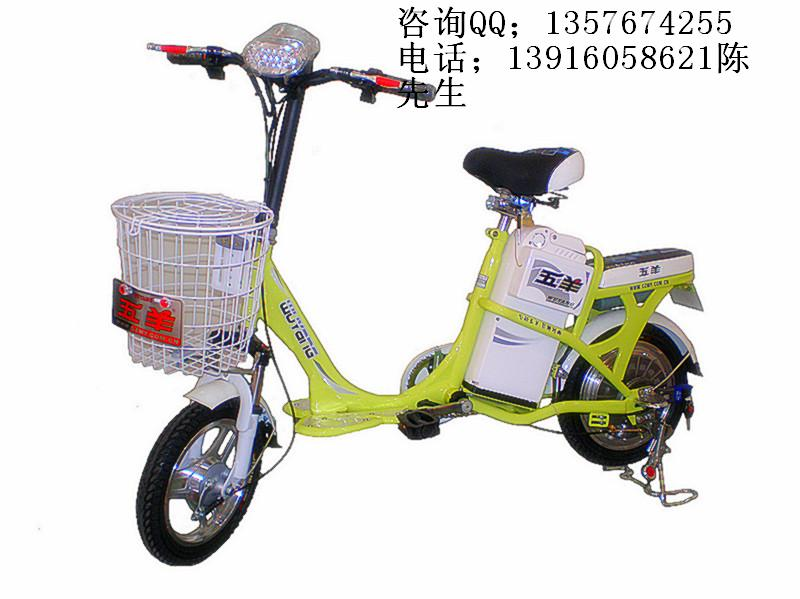电动车: (78, 21, 746, 582)
